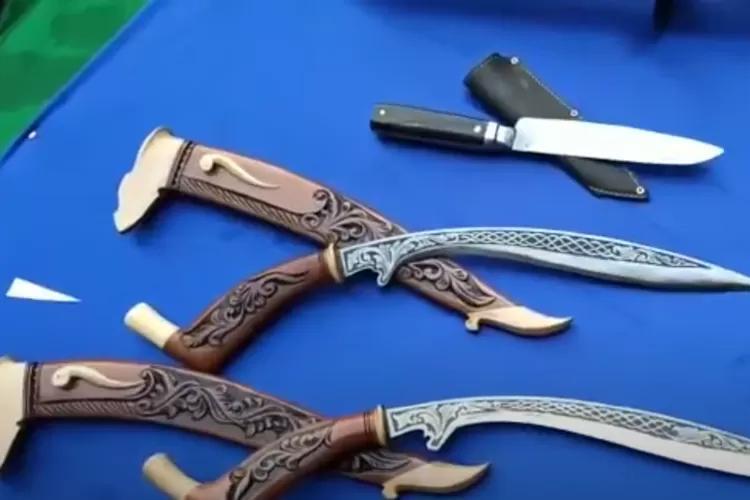faca: (370, 104, 723, 165)
facao: (151, 228, 749, 372), (145, 396, 749, 499), (383, 461, 487, 498)
